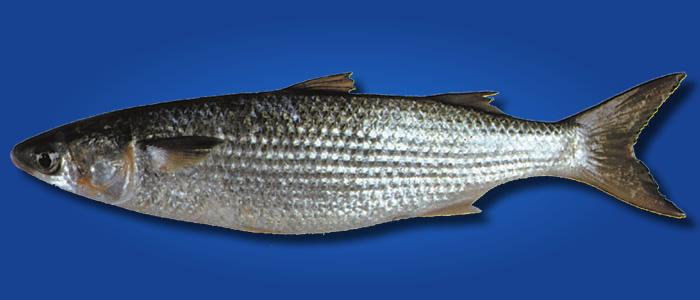Mullet: (12, 70, 692, 237)
